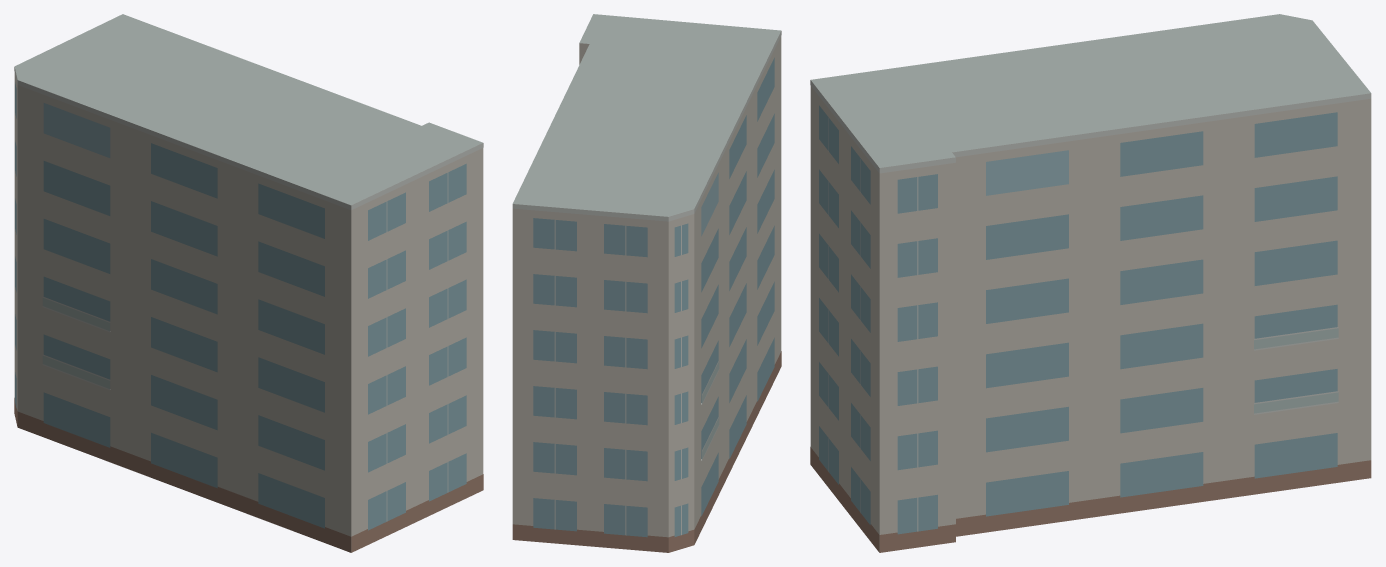
Rendered from survey-upis-32745481.glb.
3 renders of one model, left to right at view 1: azimuth 30°, elevation 25°; view 2: azimuth 150°, elevation 25°; view 3: azimuth 270°, elevation 25°, orthographic. The views are drawn at different scales.
Visible parts, largest first — view 1: survey-upis-32745481.tmp; view 2: survey-upis-32745481.tmp; view 3: survey-upis-32745481.tmp.
Part boxes in pixels (<box>): survey-upis-32745481.tmp: <box>14,14,483,552</box>; survey-upis-32745481.tmp: <box>512,14,781,552</box>; survey-upis-32745481.tmp: <box>810,14,1371,552</box>.
Bounding box in the file's own units: 14.87 × 17.3 × 22.86.
